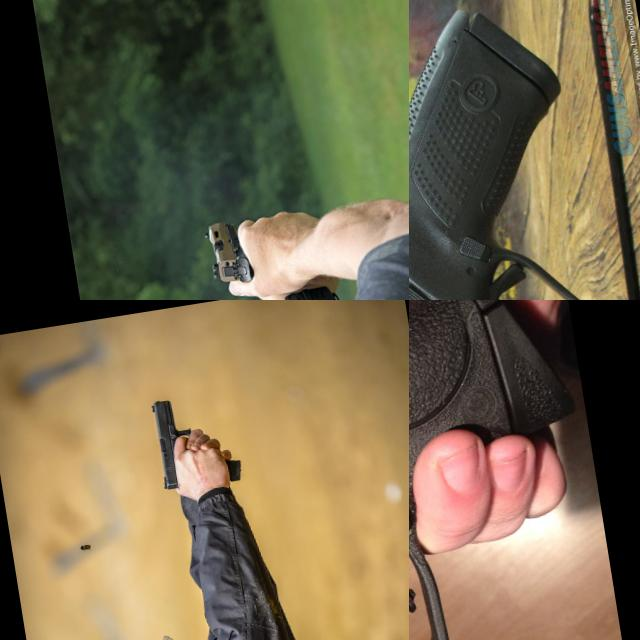handgun: (409, 300, 640, 640), (409, 0, 640, 300), (145, 394, 202, 494), (201, 214, 256, 289)
